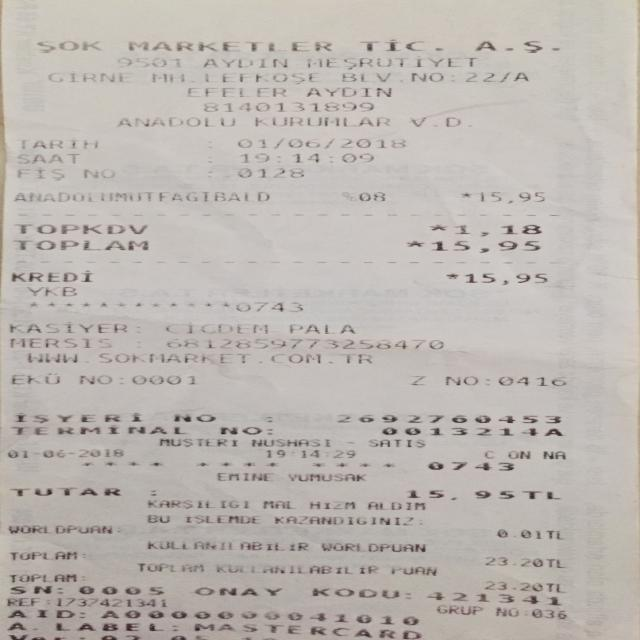text: (101, 607, 417, 627), (27, 350, 370, 366), (166, 336, 443, 350), (193, 622, 420, 639), (127, 37, 330, 55), (11, 190, 268, 202), (342, 70, 527, 85), (306, 55, 475, 70), (217, 562, 376, 577), (381, 425, 562, 438), (12, 424, 185, 436), (148, 539, 306, 552), (203, 100, 372, 112), (237, 137, 406, 149), (428, 591, 561, 606), (9, 319, 126, 335), (407, 414, 560, 426), (200, 70, 319, 85), (274, 514, 411, 527), (314, 539, 432, 554), (253, 115, 388, 128), (13, 222, 145, 235), (0, 335, 111, 350), (10, 410, 147, 422), (474, 37, 565, 55), (13, 239, 147, 251), (404, 488, 515, 502), (115, 115, 233, 128), (431, 239, 538, 253), (163, 320, 267, 334), (239, 152, 371, 163), (78, 584, 167, 599), (312, 585, 400, 600), (54, 621, 164, 633), (146, 498, 247, 511), (11, 485, 120, 497), (195, 582, 280, 597), (202, 55, 286, 70), (188, 85, 284, 98), (56, 597, 166, 608), (48, 70, 128, 85), (5, 448, 122, 458), (10, 269, 90, 283), (306, 85, 390, 98), (364, 37, 424, 55), (265, 447, 354, 459), (288, 320, 354, 336), (464, 272, 544, 285), (454, 224, 540, 236), (427, 460, 513, 472), (10, 524, 111, 534), (159, 435, 236, 448), (4, 138, 87, 150), (482, 580, 564, 592), (130, 372, 195, 387), (337, 410, 402, 425), (8, 606, 72, 621), (498, 374, 565, 388), (118, 55, 180, 70), (287, 471, 363, 483), (234, 300, 309, 312), (0, 371, 59, 386), (138, 561, 204, 574), (186, 514, 256, 526), (32, 40, 102, 52), (479, 190, 543, 203), (248, 437, 330, 447), (12, 167, 67, 181), (410, 115, 469, 128), (15, 152, 78, 164), (367, 499, 425, 512), (237, 167, 303, 178), (368, 436, 424, 448), (216, 471, 272, 483), (11, 550, 78, 560), (489, 556, 543, 568), (479, 448, 530, 460), (172, 410, 215, 424), (24, 285, 74, 297), (438, 602, 478, 617), (9, 573, 74, 582), (340, 190, 386, 202), (489, 528, 542, 538), (310, 499, 354, 511), (9, 584, 53, 596), (389, 565, 437, 576), (220, 424, 260, 436), (529, 608, 568, 620), (522, 489, 560, 501), (81, 167, 115, 180), (79, 372, 110, 386), (152, 72, 186, 84), (445, 374, 477, 386), (262, 499, 294, 511), (8, 619, 35, 633), (491, 605, 520, 617), (5, 596, 36, 607), (542, 448, 567, 461), (543, 529, 569, 540), (148, 513, 170, 525), (404, 239, 422, 253), (58, 580, 70, 596), (432, 37, 442, 55), (430, 224, 444, 236), (411, 373, 423, 386), (551, 556, 562, 569), (172, 622, 181, 636), (461, 190, 470, 203), (444, 272, 460, 279), (42, 597, 49, 607), (266, 424, 270, 436), (80, 607, 83, 621)
